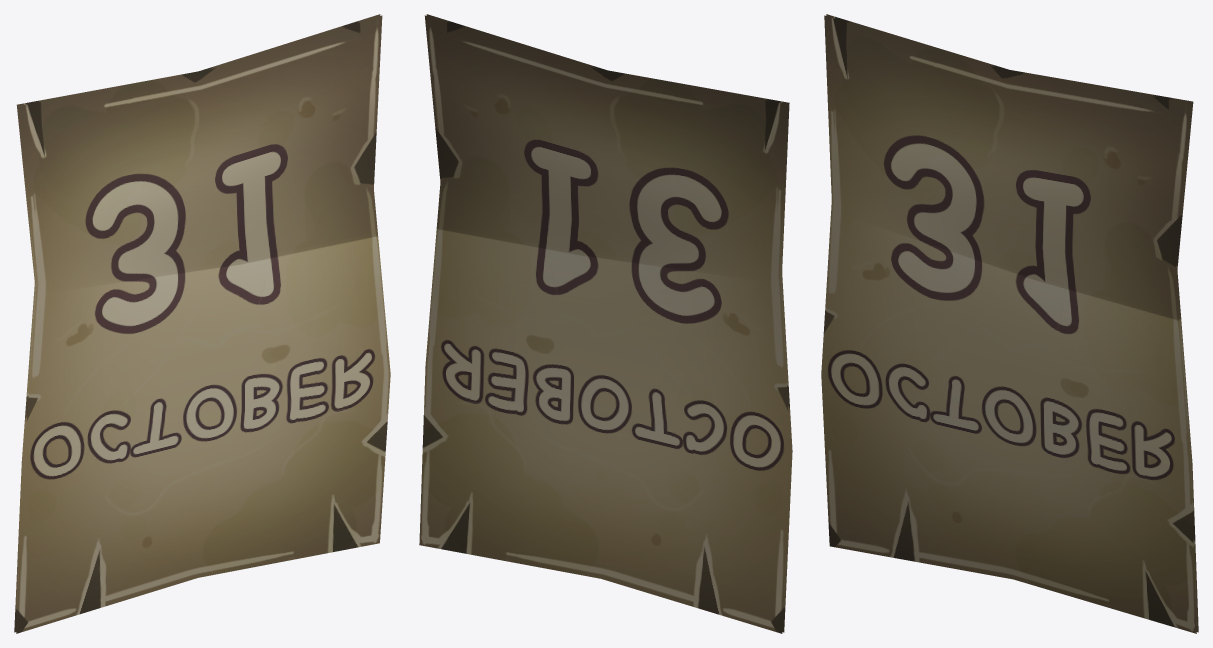
File: paper_01.fbx
3 renders of one model, left to right at view 1: azimuth 30°, elevation 25°; view 2: azimuth 150°, elevation 25°; view 3: azimuth 330°, elevation 25°, orthographic.
Visible parts, largest first — view 1: paper_01; view 2: paper_01; view 3: paper_01.
Boxes of the visible parts, <box> form: paper_01: <box>14,14,390,633</box>; paper_01: <box>419,14,792,633</box>; paper_01: <box>821,14,1198,633</box>.
Bounding box in the file's own units: 1.67 × 2.31 × 0.0942.
